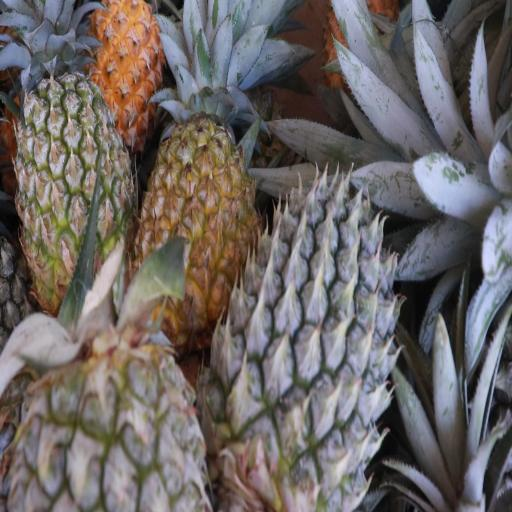------------------------------: (17, 84, 130, 302)
Pineapple - v8 v1: (142, 90, 250, 338), (69, 0, 160, 122)
